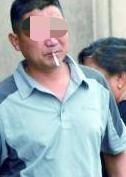smoke: (50, 52, 64, 71)
